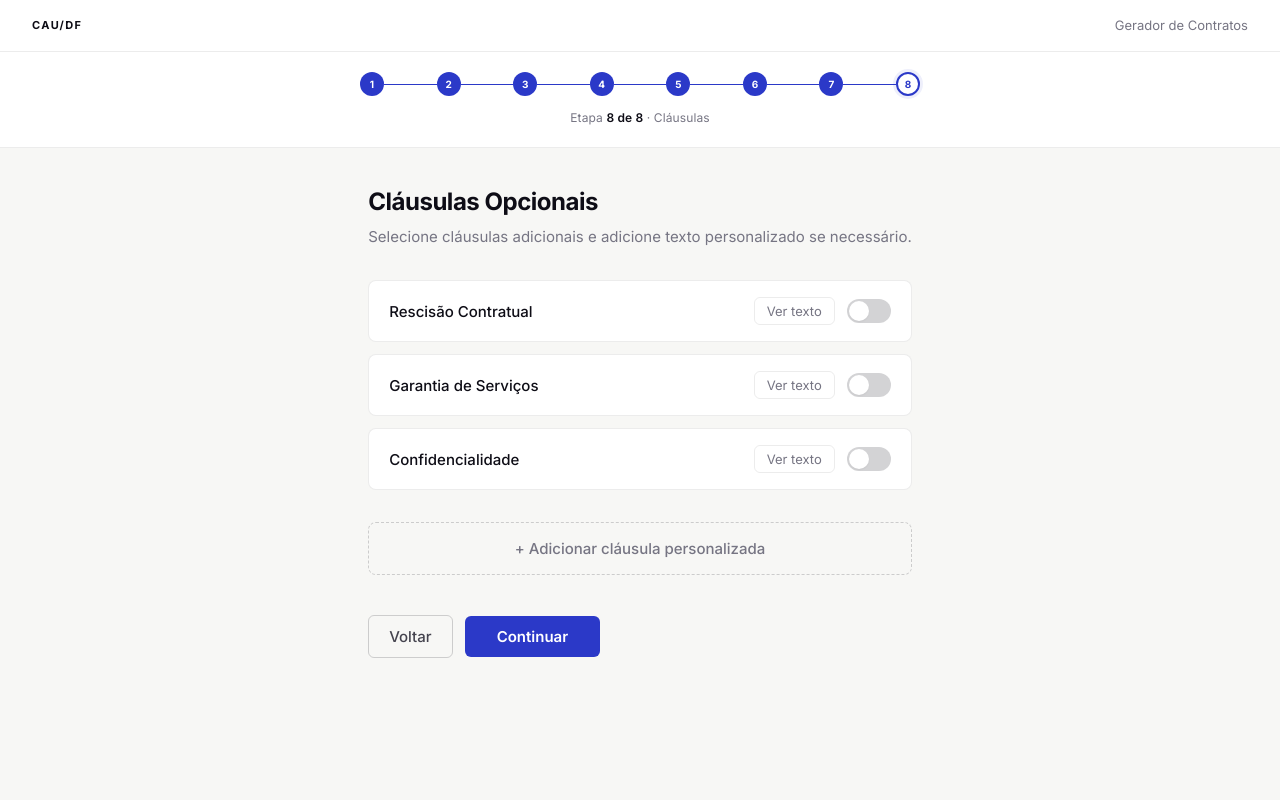
Test: OptionalClausesPage › 9. "+ Adicionar cláusula personalizada" inserts an empty textarea
The width and height of the screenshot is (1280, 800).
Expected: the text "Rescisão Contratual" is shown, [389, 302, 533, 321]
Expected: the field labelled "cláusula personalizada 1" is not shown
What coordinates should you click on to do the following:
click the button "+ Adicionar cláusula personalizada"
I would click on:
 (640, 549)
Its box is [368, 522, 912, 575].
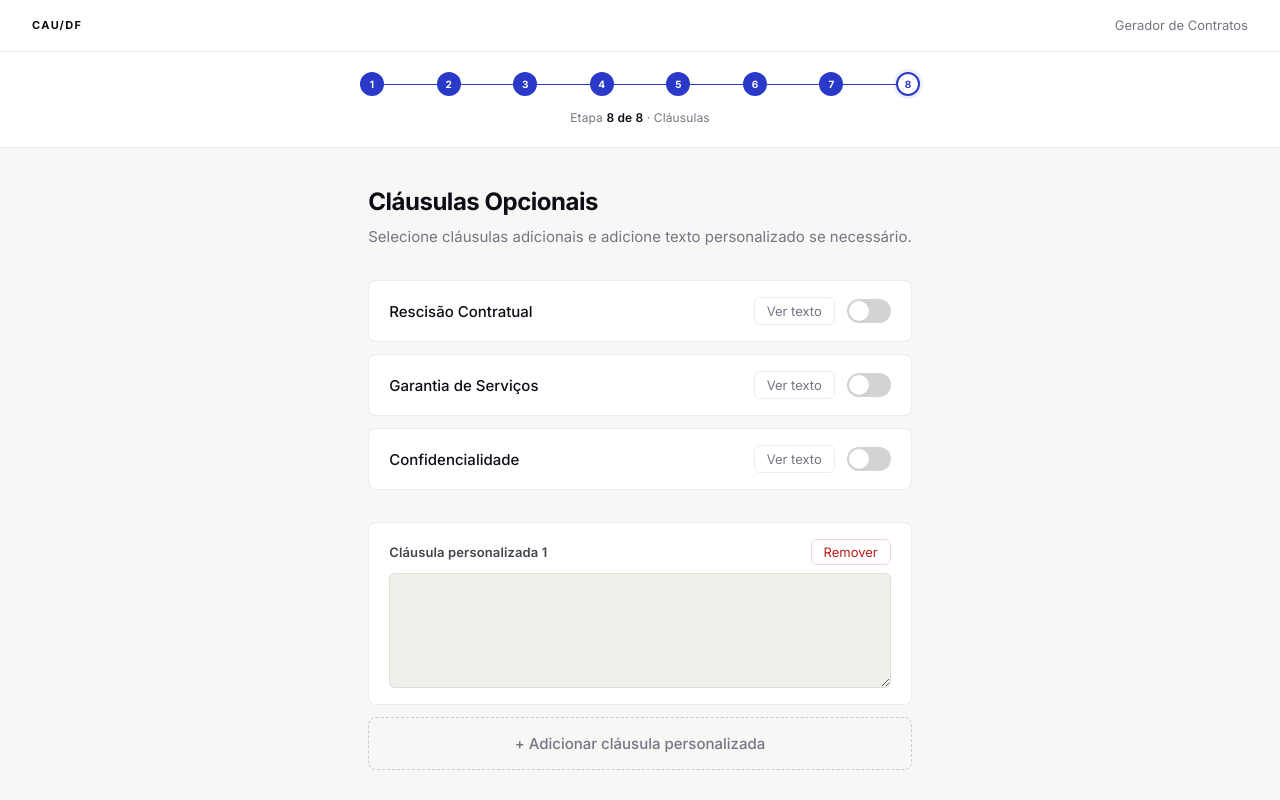
Result: the text box labelled "Cláusula personalizada 1" is shown at [389, 573, 891, 688]
